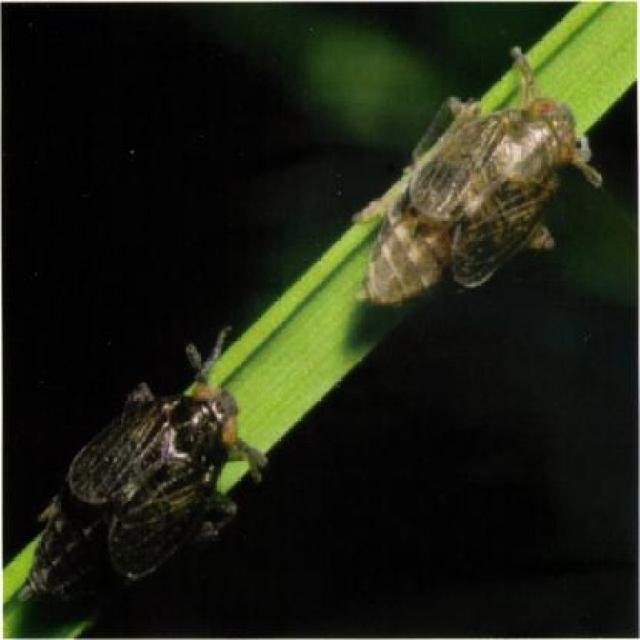rice-bug: (22, 354, 269, 611), (362, 48, 604, 304)
